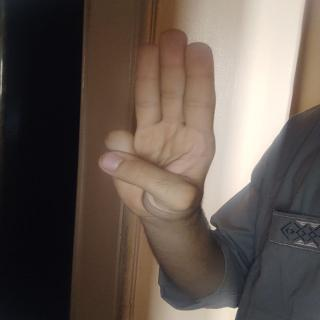THA: (96, 20, 222, 234)
